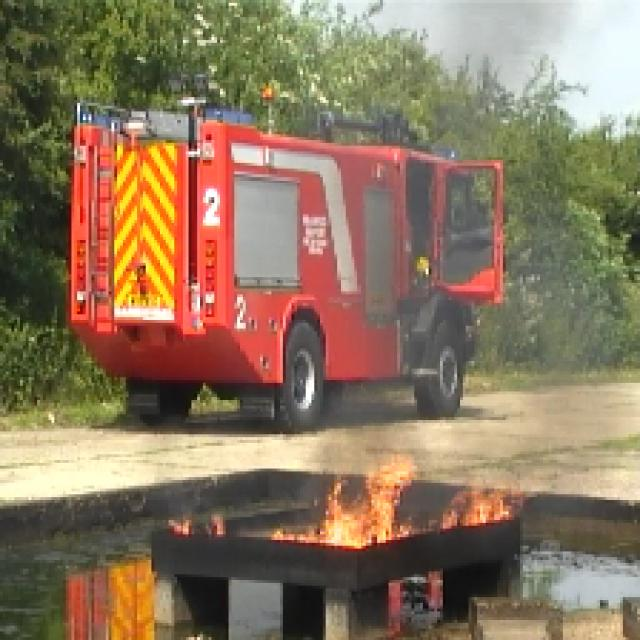fire: (313, 460, 516, 542)
